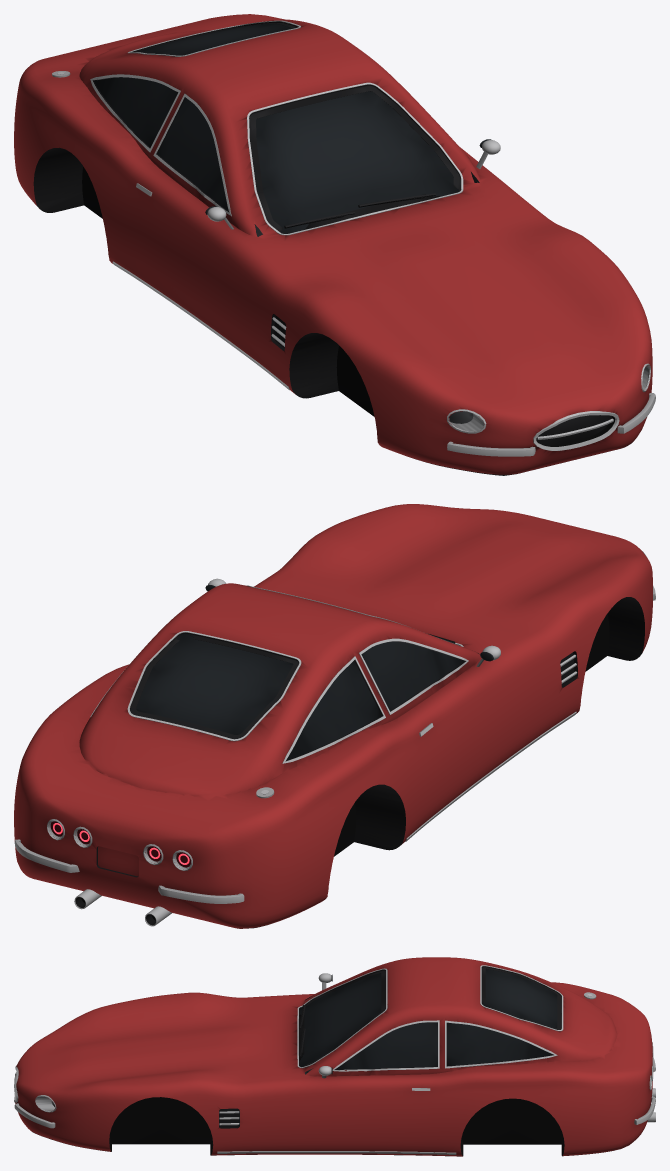
Rendered from vesper.m.glb.
3 renders of one model, top to bottom at view 1: azimuth 30°, elevation 25°; view 2: azimuth 150°, elevation 25°; view 3: azimuth 270°, elevation 25°, orthographic. The views are drawn at different scales.
Parts seen in each view (by area): view 1: paint_lodm, window_lodm, trim_lodm, chrome_lodm, grille_lodm; view 2: paint_lodm, window_lodm, trim_lodm, chrome_lodm; view 3: paint_lodm, window_lodm, trim_lodm, chrome_lodm, grille_lodm.
Boxes of the visible parts, x1=… form: paint_lodm: x1=14, y1=14, x2=652, y2=474; window_lodm: x1=94, y1=23, x2=459, y2=233; trim_lodm: x1=33, y1=21, x2=632, y2=475; chrome_lodm: x1=52, y1=20, x2=655, y2=456; grille_lodm: x1=274, y1=315, x2=611, y2=445; paint_lodm: x1=14, y1=504, x2=652, y2=928; window_lodm: x1=136, y1=633, x2=464, y2=760; trim_lodm: x1=75, y1=597, x2=644, y2=928; chrome_lodm: x1=14, y1=551, x2=655, y2=926; paint_lodm: x1=15, y1=957, x2=652, y2=1156; window_lodm: x1=299, y1=969, x2=557, y2=1069; trim_lodm: x1=17, y1=966, x2=620, y2=1156; chrome_lodm: x1=14, y1=965, x2=655, y2=1154; grille_lodm: x1=219, y1=1108, x2=239, y2=1127.
Size of what is drawn, in the model's own units: 1.71 by 1.03 by 4.57.
